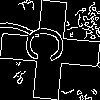C: (25, 25, 74, 65)
